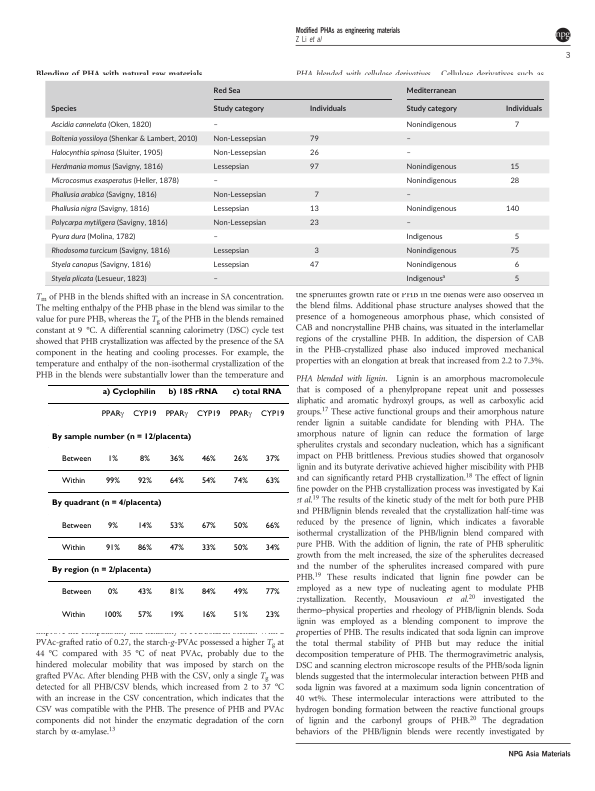borderless: (43, 80, 550, 287), (46, 383, 290, 627)
cell: (50, 133, 197, 145), (50, 175, 179, 187), (50, 245, 170, 257), (50, 432, 192, 442), (50, 217, 168, 229), (50, 147, 163, 159), (50, 161, 163, 173), (50, 189, 157, 201), (50, 119, 151, 131), (50, 259, 151, 271), (50, 203, 149, 215), (50, 273, 147, 285), (50, 231, 135, 243), (50, 499, 162, 508), (50, 566, 152, 575), (405, 84, 456, 97), (212, 133, 266, 145), (212, 147, 266, 159), (212, 189, 266, 201), (212, 217, 266, 229), (212, 103, 264, 115), (405, 103, 457, 115), (405, 119, 457, 131), (405, 161, 457, 173), (405, 175, 457, 187), (405, 203, 457, 215), (405, 245, 457, 257), (405, 259, 457, 271), (100, 399, 124, 421), (164, 399, 188, 421), (228, 399, 252, 421), (405, 272, 445, 285), (101, 388, 156, 397), (167, 388, 218, 397), (231, 388, 282, 397), (405, 231, 443, 243), (212, 161, 249, 173), (212, 203, 249, 215), (212, 245, 249, 257), (212, 259, 249, 271), (212, 84, 241, 97), (50, 103, 77, 115), (308, 105, 346, 113), (504, 105, 542, 113), (60, 454, 92, 462), (60, 521, 92, 529), (60, 588, 92, 596), (60, 543, 86, 551), (60, 610, 86, 618), (132, 410, 157, 418), (196, 410, 221, 418), (260, 410, 285, 418), (60, 477, 86, 484), (102, 610, 122, 618), (308, 133, 319, 145), (308, 147, 319, 159), (308, 161, 319, 173), (168, 454, 184, 462), (200, 454, 216, 462), (232, 454, 248, 462), (264, 454, 280, 462), (136, 521, 152, 529), (168, 521, 184, 529), (200, 521, 216, 529), (232, 521, 248, 529), (264, 521, 280, 529), (104, 543, 120, 551), (136, 543, 152, 551), (168, 543, 184, 551), (200, 543, 216, 551), (232, 543, 248, 551), (264, 543, 280, 551), (136, 588, 152, 596), (168, 588, 184, 596), (200, 588, 216, 596), (232, 588, 248, 596), (264, 588, 280, 596), (136, 610, 152, 618), (168, 610, 184, 618), (200, 610, 216, 618), (232, 610, 248, 618), (264, 610, 280, 618), (104, 477, 120, 484), (136, 477, 152, 484), (168, 477, 184, 484), (200, 477, 216, 484), (232, 477, 248, 484), (264, 477, 280, 484), (504, 206, 519, 213), (107, 454, 118, 462), (139, 454, 150, 462), (107, 521, 118, 529), (107, 588, 118, 596), (308, 206, 319, 213), (308, 220, 319, 227), (308, 262, 319, 269), (513, 259, 519, 271), (509, 164, 519, 171), (509, 178, 519, 185), (509, 248, 519, 255), (212, 122, 218, 129), (513, 122, 519, 129), (405, 136, 411, 143), (405, 150, 411, 157), (212, 178, 218, 185), (313, 192, 319, 199), (405, 192, 411, 199), (405, 220, 411, 227), (212, 234, 218, 241), (513, 234, 519, 241), (313, 248, 319, 255), (212, 276, 218, 283), (513, 276, 519, 283)
